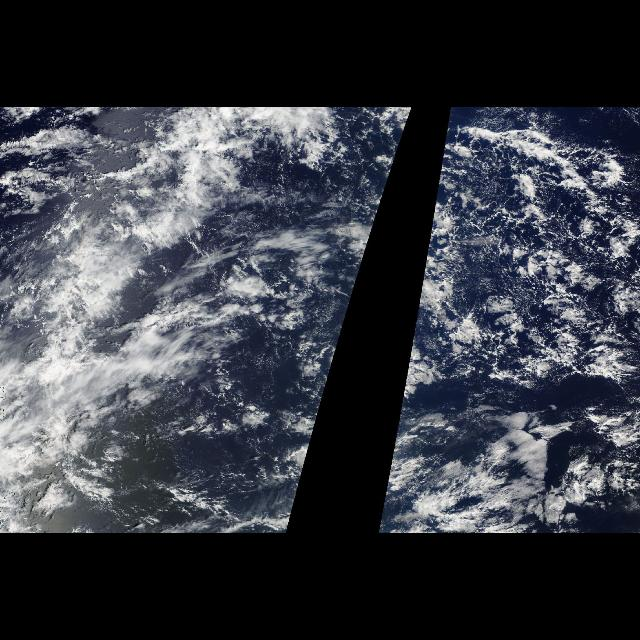Gravel: (424, 116, 640, 400)
